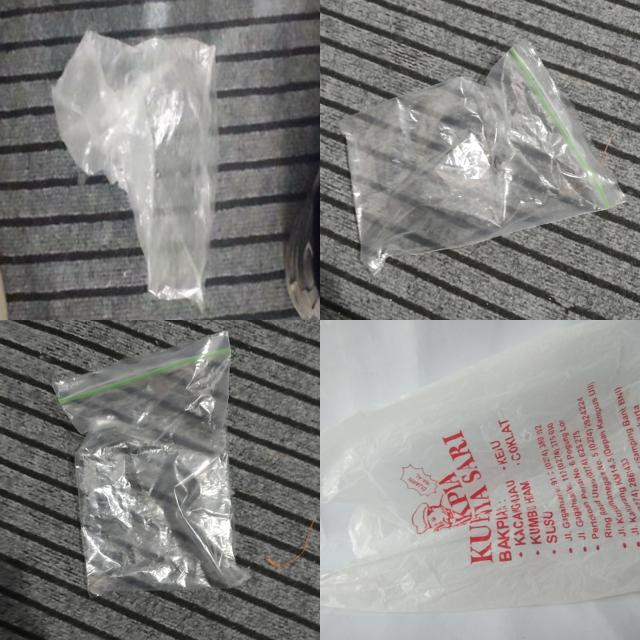Single-layer Plastic: (321, 322, 640, 611), (340, 40, 624, 274), (55, 332, 249, 594), (52, 30, 218, 308)
